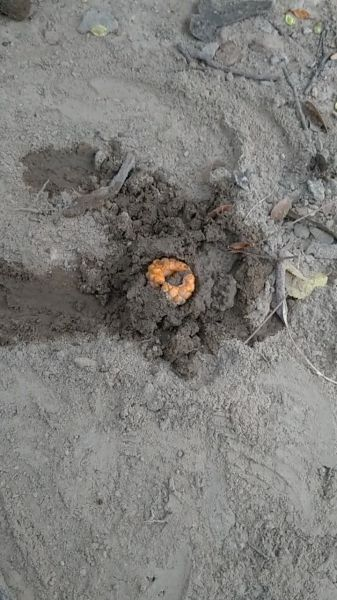eggs: (139, 248, 207, 311)
